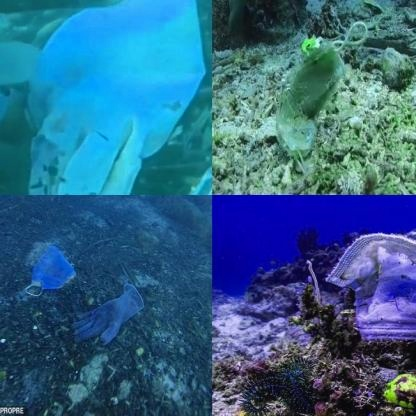Mask: (277, 22, 367, 173), (326, 233, 416, 356), (25, 246, 76, 302)
glove: (0, 0, 204, 194), (72, 282, 145, 350)
